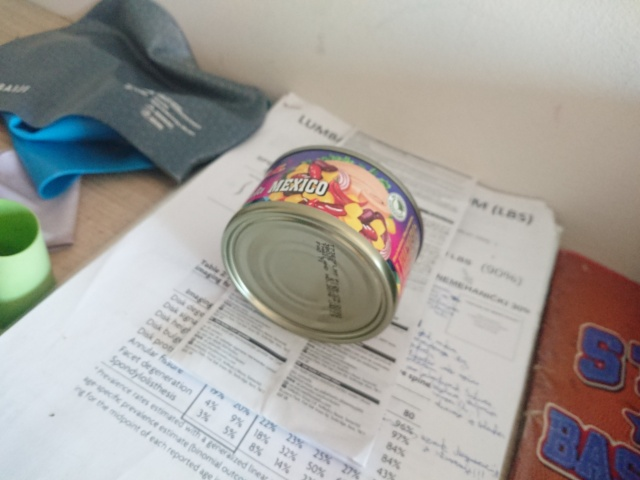Giana Tuna Salad Mexico 185g: (218, 143, 426, 346)
